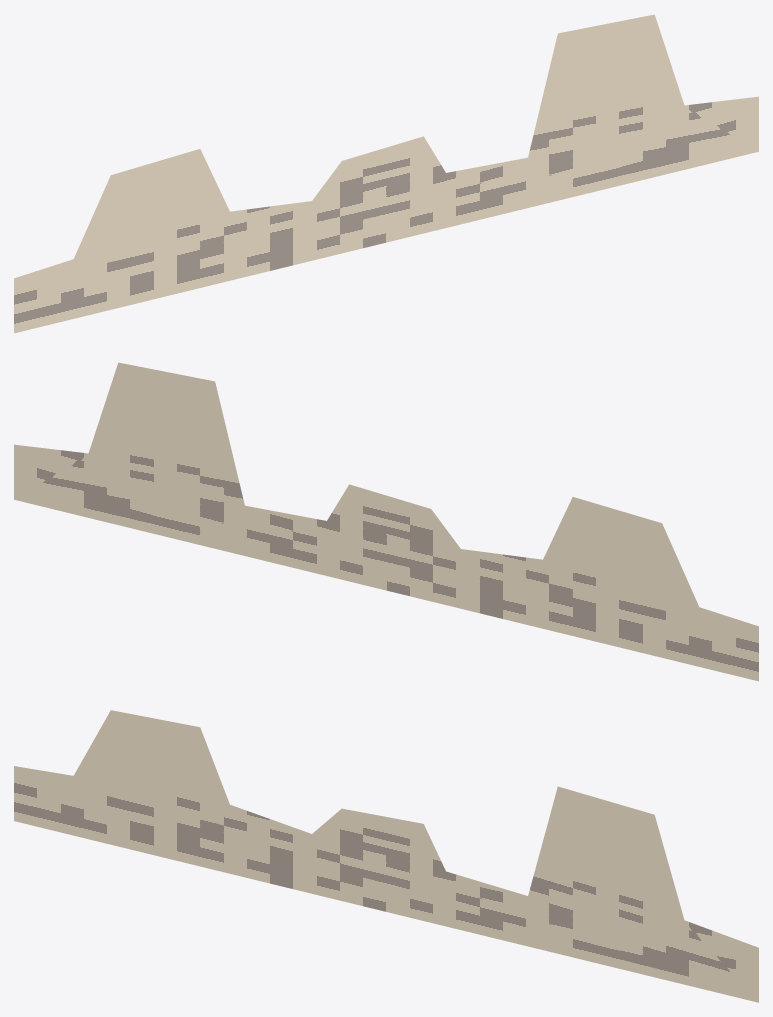
The model's file is land.skyline__mesas.glb.
3 views of the same model, one above another, from view 1: azimuth 30°, elevation 25°; view 2: azimuth 150°, elevation 25°; view 3: azimuth 330°, elevation 25° (orthographic).
Parts seen in each view (by area): view 1: kit_shell_skyline; view 2: kit_shell_skyline; view 3: kit_shell_skyline.
Boxes of the visible parts, bbox=[...] form: kit_shell_skyline: bbox=[14, 14, 758, 333]; kit_shell_skyline: bbox=[14, 362, 758, 681]; kit_shell_skyline: bbox=[14, 710, 758, 1002].
Bounding box in the file's own units: 60 × 12.88 × 0.
1 material, 1 textured.
